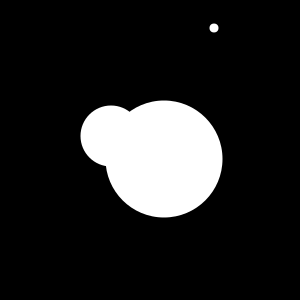rectangle: (105, 100, 222, 218), (80, 105, 142, 166), (210, 24, 219, 32)
